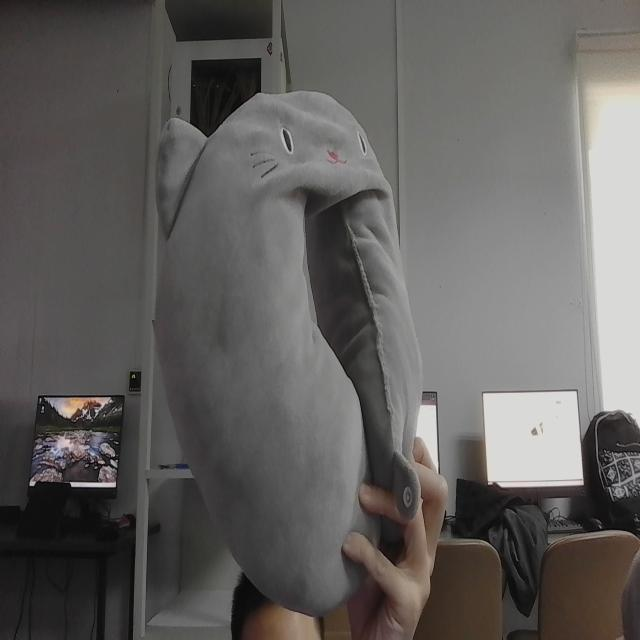pillow: (148, 81, 427, 613)
